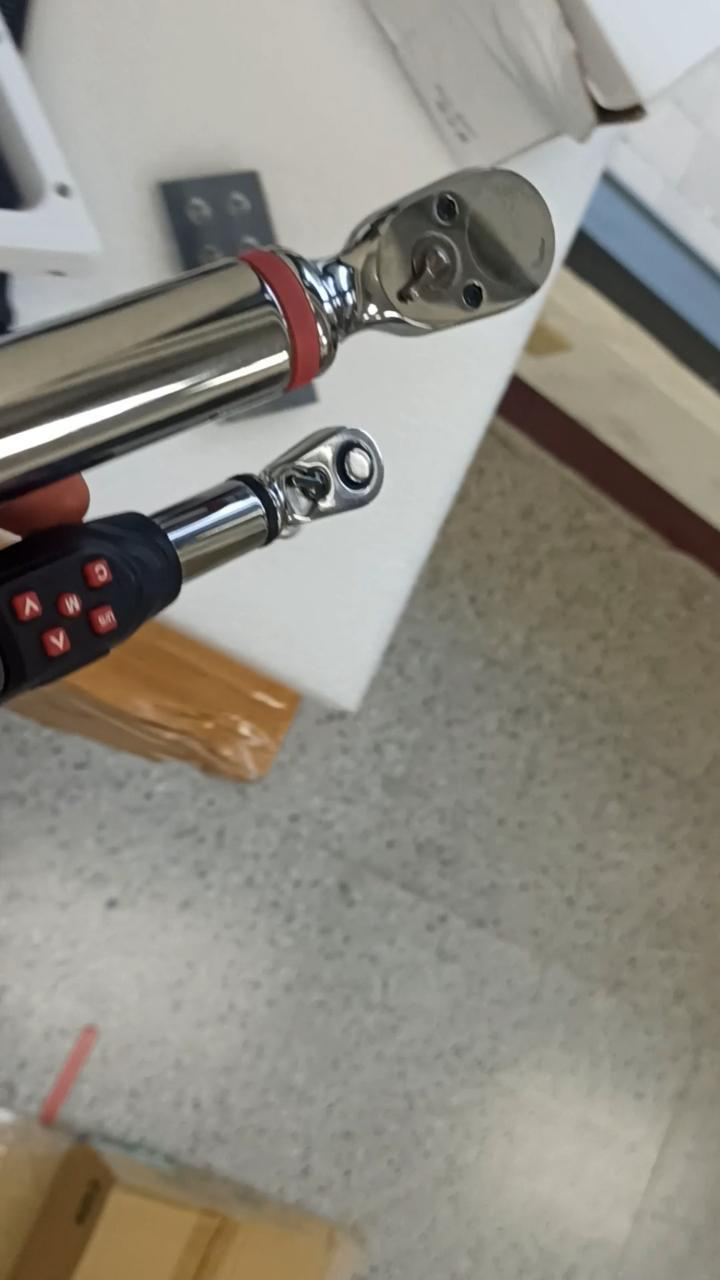Tool: (292, 162, 556, 342), (268, 418, 384, 528)
